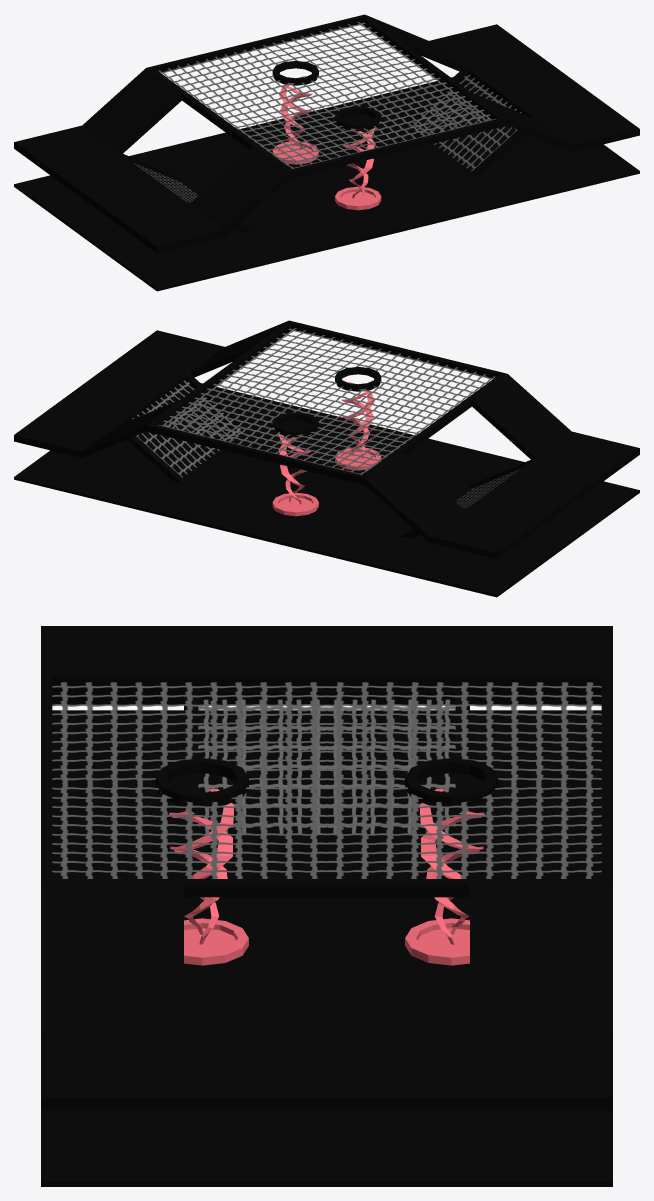
Rendered from pvpvmap.glb.
3 renders of one model, top to bottom at view 1: azimuth 30°, elevation 25°; view 2: azimuth 150°, elevation 25°; view 3: azimuth 270°, elevation 25°, orthographic. The views are drawn at different scales.
Parts seen in each view (by area): view 1: stage2, air_drift_2.1; view 2: stage2, air_drift_2.1; view 3: stage2, air_drift_2.1.
Boxes of the visible parts, x1=… form: stage2: x1=14, y1=14, x2=639, y2=291; air_drift_2.1: x1=272, y1=76, x2=381, y2=210; stage2: x1=14, y1=320, x2=639, y2=597; air_drift_2.1: x1=272, y1=382, x2=381, y2=516; stage2: x1=41, y1=626, x2=612, y2=1186; air_drift_2.1: x1=169, y1=788, x2=484, y2=965.
Size of the model in its own units: 385 by 66 by 197.
Materials: 3 (1 with a texture image).
